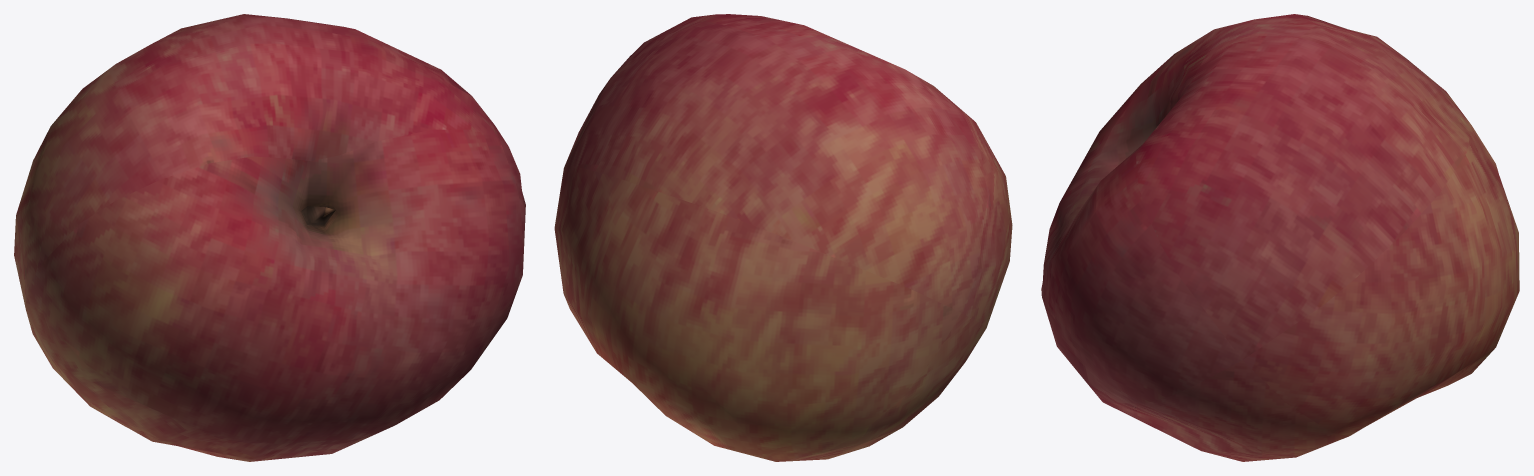
The model's file is ref_apple.fbx.
The picture shows the model from 3 angles, left to right: view 1: azimuth 30°, elevation 25°; view 2: azimuth 150°, elevation 25°; view 3: azimuth 270°, elevation 25°; orthographic projection. The views are drawn at different scales.
Parts seen in each view (by area): view 1: ref_apple; view 2: ref_apple; view 3: ref_apple.
Boxes of the visible parts, x1=… form: ref_apple: x1=14, y1=14, x2=525, y2=461; ref_apple: x1=554, y1=14, x2=1012, y2=461; ref_apple: x1=1041, y1=14, x2=1519, y2=461.
Size of the model in its own units: 100 by 91.57 by 98.14.
1 material, 1 textured.
